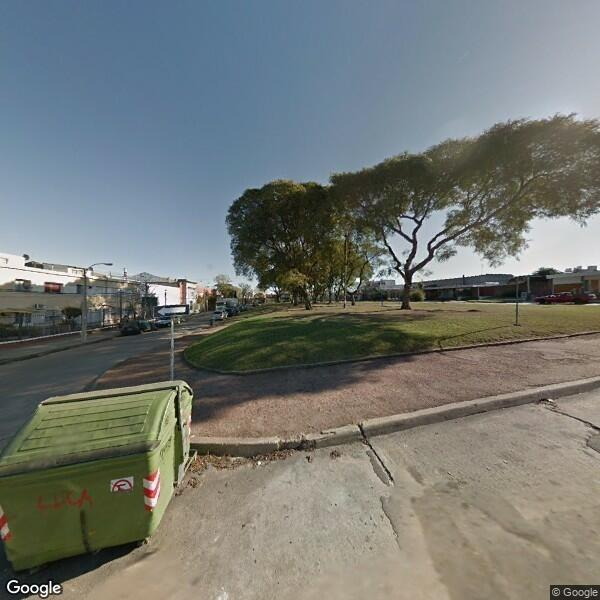Trash: (0, 378, 202, 576)
